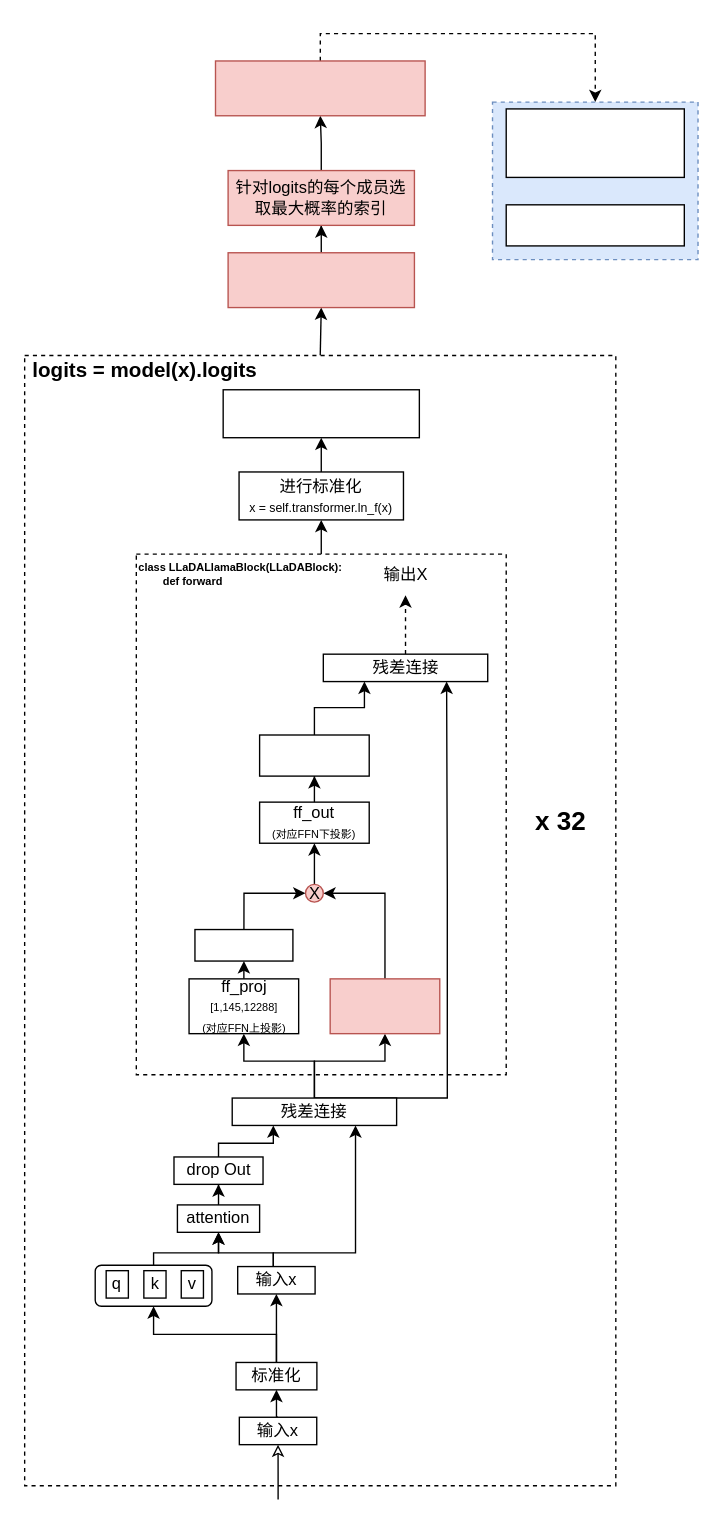
Some shapes in this 722 by 1534 pixel diagram are drawn without their labels. The centre of each missing label's shape, as x and y in pixels:
"Dropout [1,145,4096]" belongs at point 313,755.
"up_proj [1,145,12288] (对应FFN下投影)" belongs at point 384,1005.
"对logits添加gumbel噪声 (当前没有生效因为temperature=0)" belongs at point 320,279.
"循环Block中的的个数 (当前是32)" belongs at point 594,224.
"循环所有Block (如需要生成128个token，每个block是32,那么这里的block就是4)" belongs at point 594,142.
"激活函数" belongs at point 243,944.
"输出logits logits = self.transformer.ff_out(x)" belongs at point 320,413.
"选取最大置信度生成的token (因为当前的confidence.shape[0] =1,所以单次还是只生成一个token)" belongs at point 319,88.
